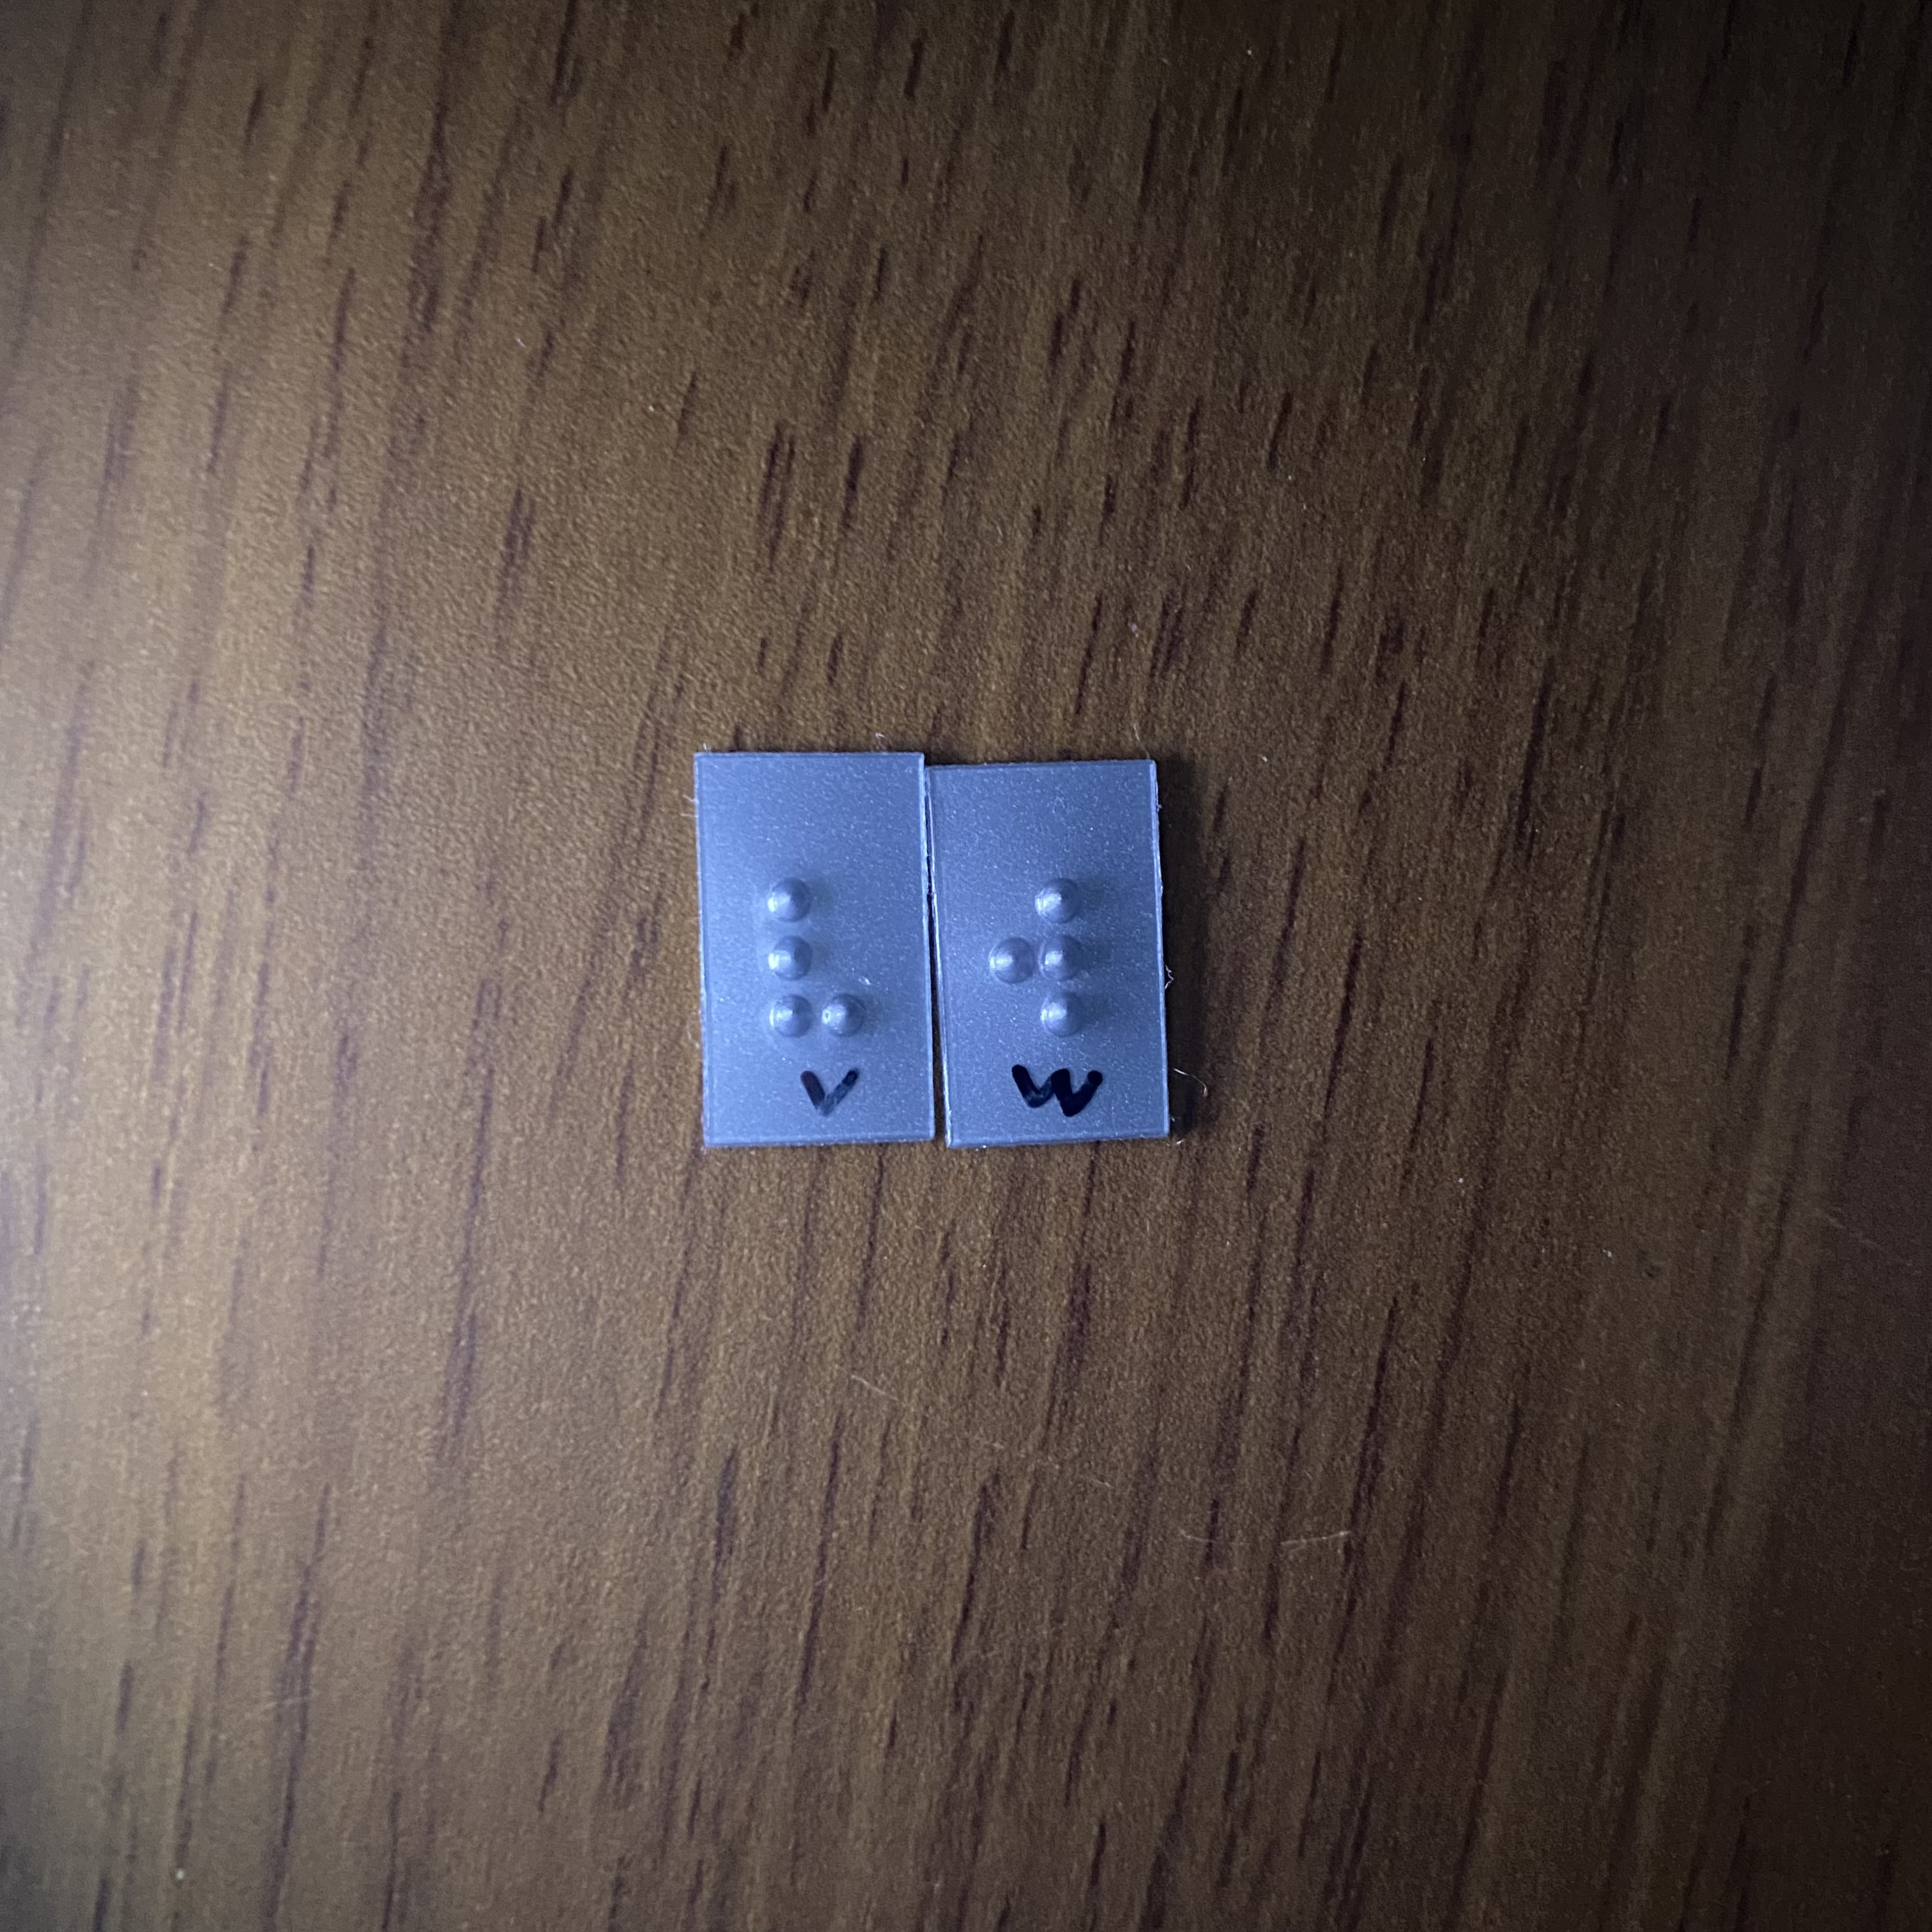v: (749, 857, 884, 1046)
w: (970, 868, 1124, 1048)
